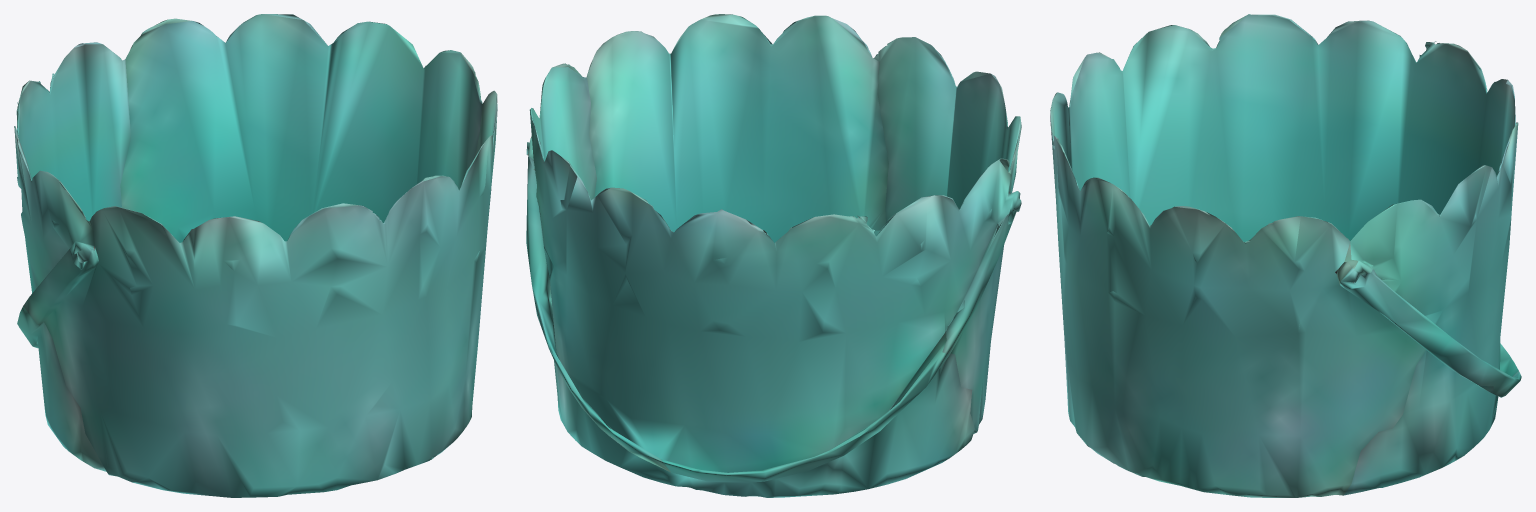
File: Spritz_Easter_Basket_Plastic_Teal-medium.glb
3 renders of one model, left to right at view 1: azimuth 30°, elevation 25°; view 2: azimuth 150°, elevation 25°; view 3: azimuth 270°, elevation 25°, orthographic.
Visible parts, largest first — view 1: Spritz_Easter_Basket_Plastic_Teal; view 2: Spritz_Easter_Basket_Plastic_Teal; view 3: Spritz_Easter_Basket_Plastic_Teal.
Part boxes in pixels (x1,y1,x2,y2): Spritz_Easter_Basket_Plastic_Teal: (14, 14, 497, 497); Spritz_Easter_Basket_Plastic_Teal: (526, 14, 1021, 497); Spritz_Easter_Basket_Plastic_Teal: (1050, 14, 1521, 497).
Size of the model in its own units: 0.1908 by 0.1287 by 0.1825.
1 material, 1 textured.
